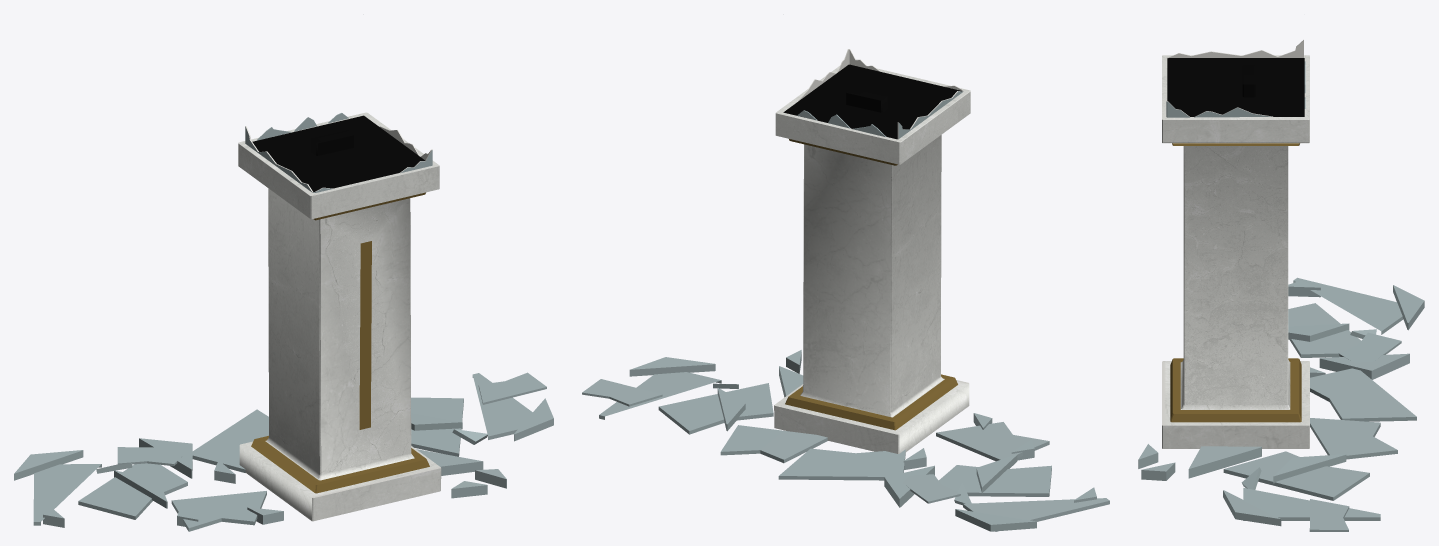
Rendered from PedestalBroken.fbx.
The picture shows the model from 3 angles, left to right: view 1: azimuth 30°, elevation 25°; view 2: azimuth 150°, elevation 25°; view 3: azimuth 270°, elevation 25°; orthographic projection. The views are drawn at different scales.
Visible parts, largest first — view 1: Pedestal.001; view 2: Pedestal.001; view 3: Pedestal.001.
Boxes of the visible parts, x1,y1,x2,y2 form: Pedestal.001: (14,112,553,531); Pedestal.001: (582,49,1109,531); Pedestal.001: (1138,40,1424,531).
Size of the model in its own units: 151 by 119 by 71.17.
